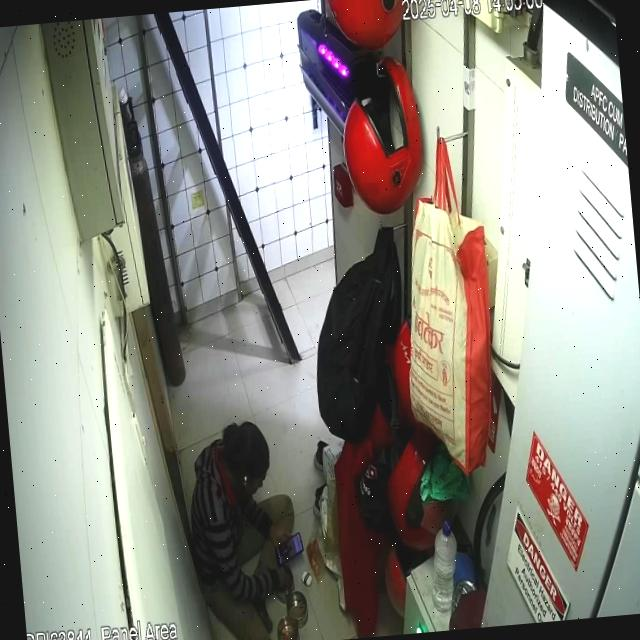helmet: (342, 53, 423, 213)
no_helmet: (222, 420, 270, 501)
